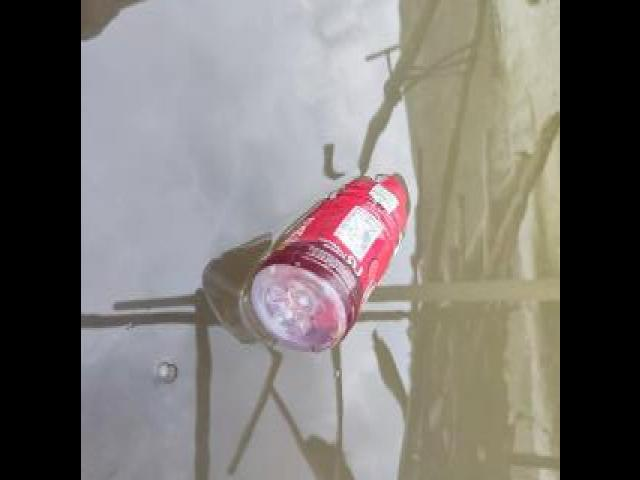Bottle: (246, 144, 426, 376)
